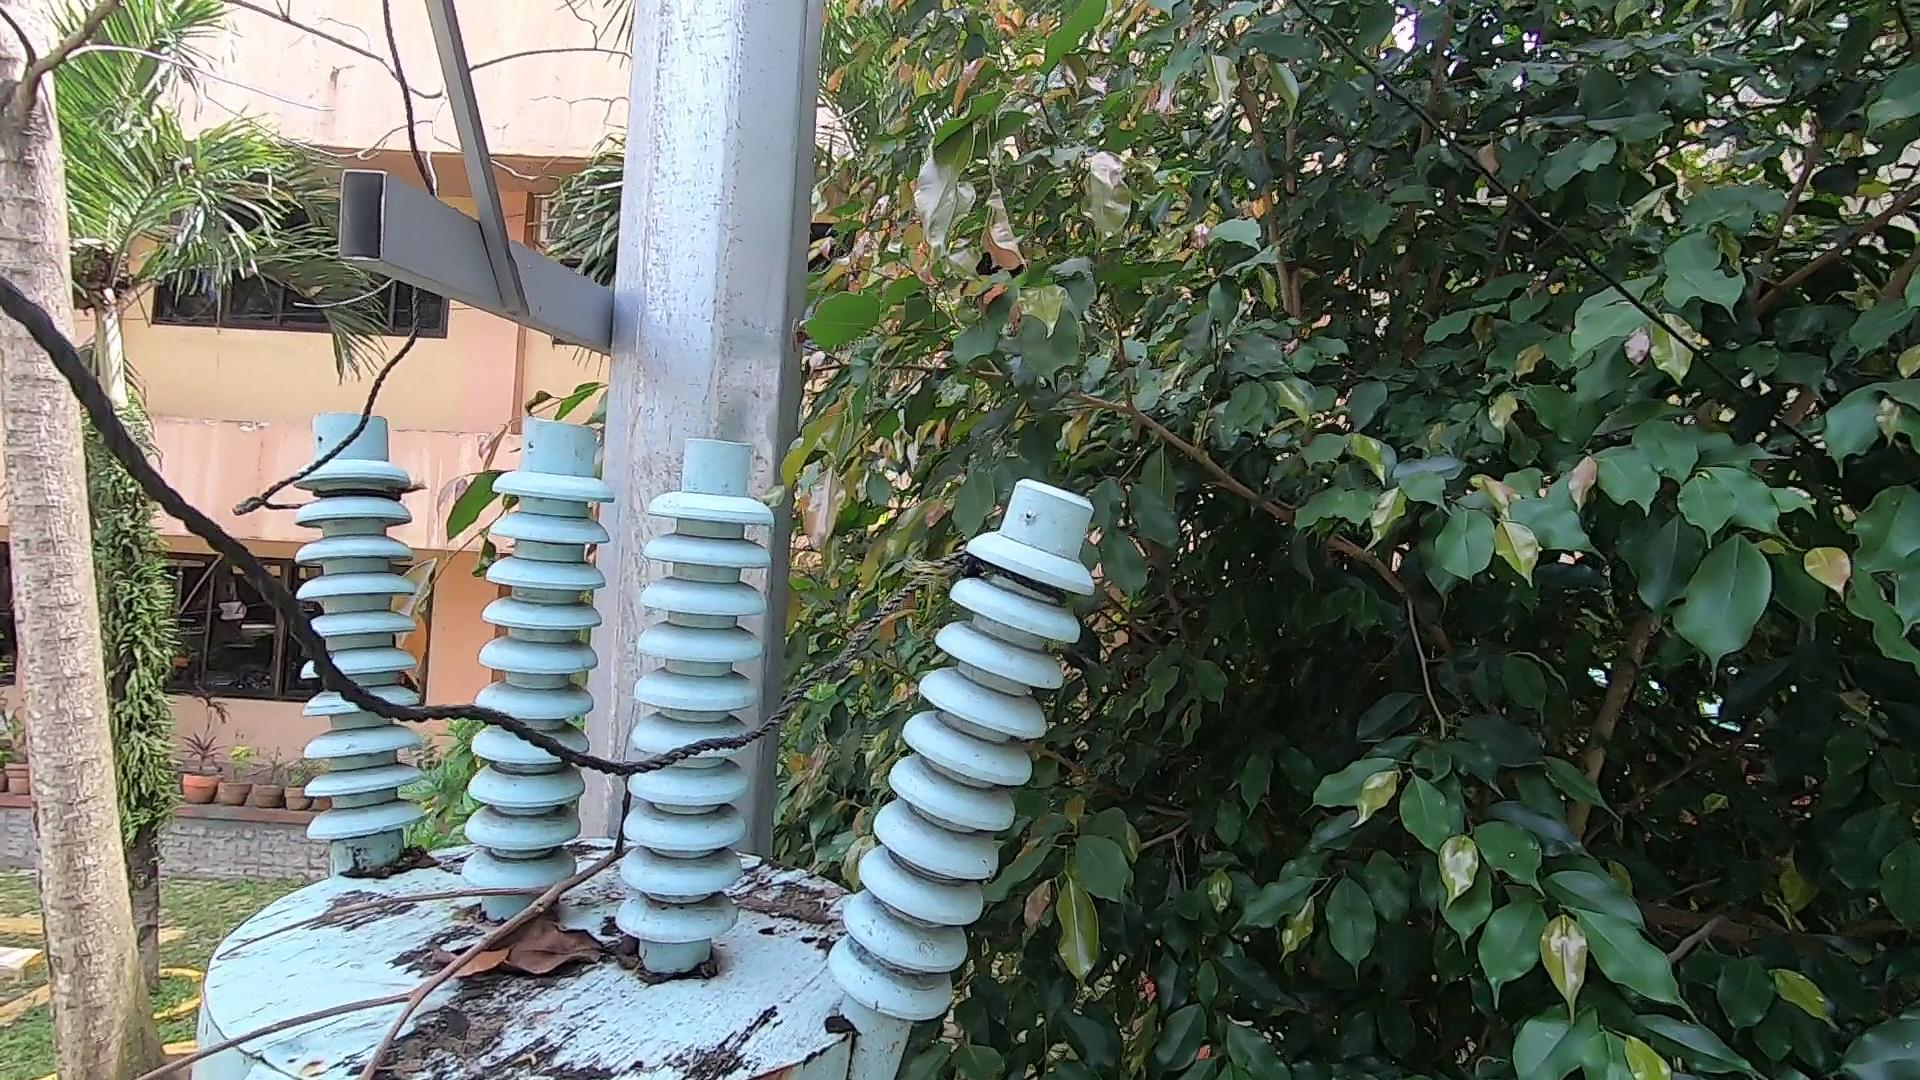leaf: (381, 903, 626, 986), (729, 866, 843, 942), (344, 843, 436, 878)
tree branch: (145, 827, 658, 1080)
